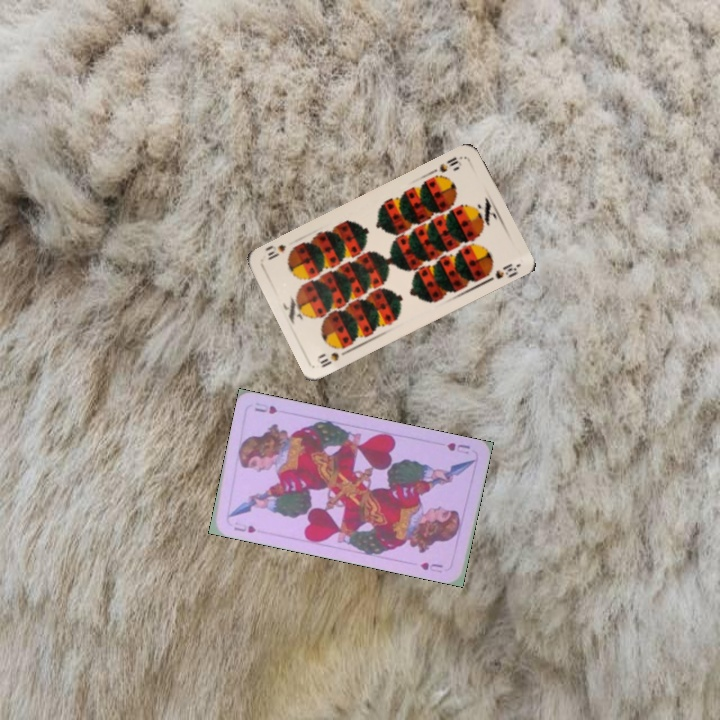HU: (443, 439, 473, 457), (230, 518, 258, 535)
S10: (314, 345, 352, 370), (435, 153, 461, 175)
